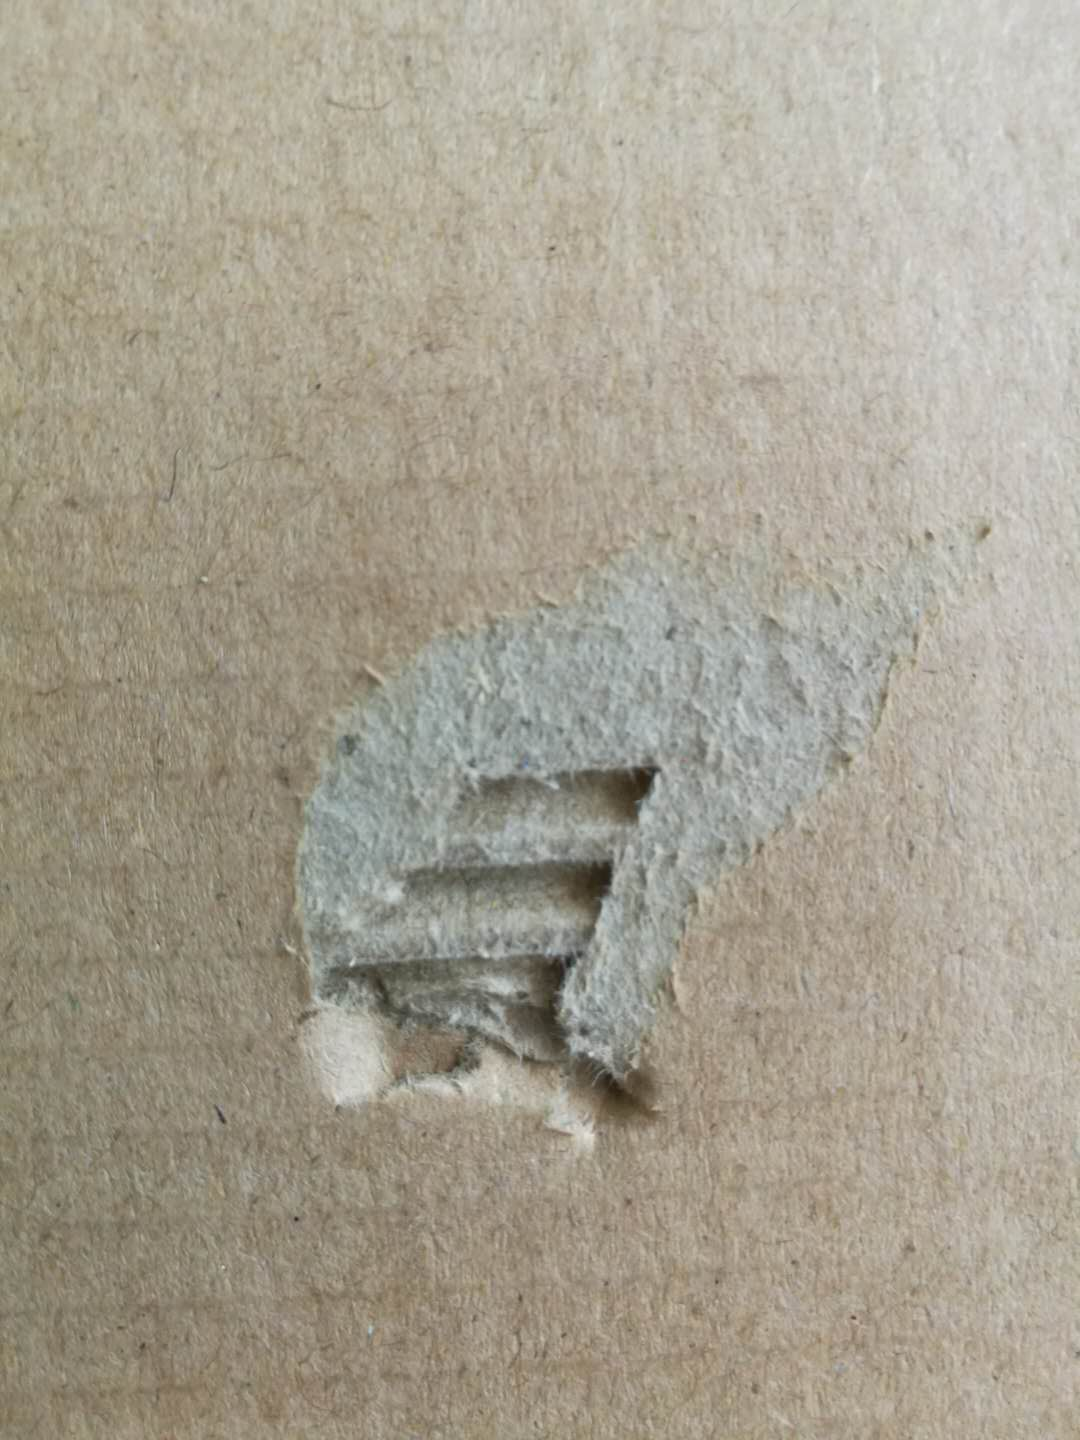defect: (219, 478, 1020, 1208)
